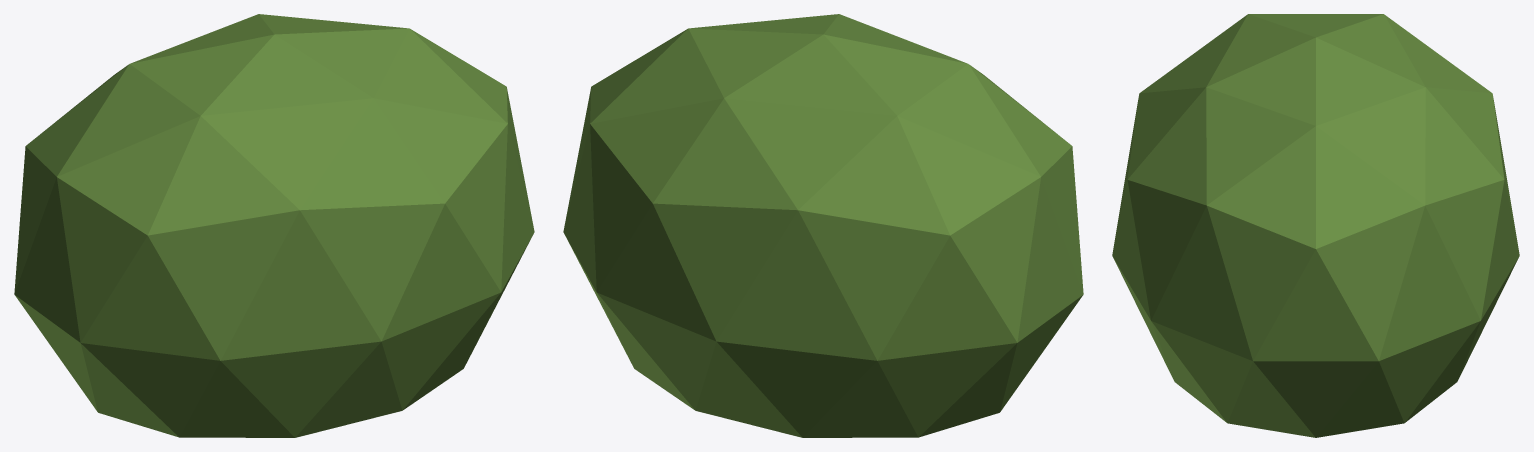
File: Bush01.fbx
3 views of the same model, side by side, from view 1: azimuth 30°, elevation 25°; view 2: azimuth 150°, elevation 25°; view 3: azimuth 270°, elevation 25° (orthographic). The views are drawn at different scales.
Visible parts, largest first — view 1: Bush01; view 2: Bush01; view 3: Bush01.
Boxes of the visible parts, x1,y1,x2,y2 form: Bush01: (14,14,534,437); Bush01: (563,14,1083,437); Bush01: (1112,14,1519,437).
Size of the model in its own units: 1.63 by 1.14 by 1.31.
